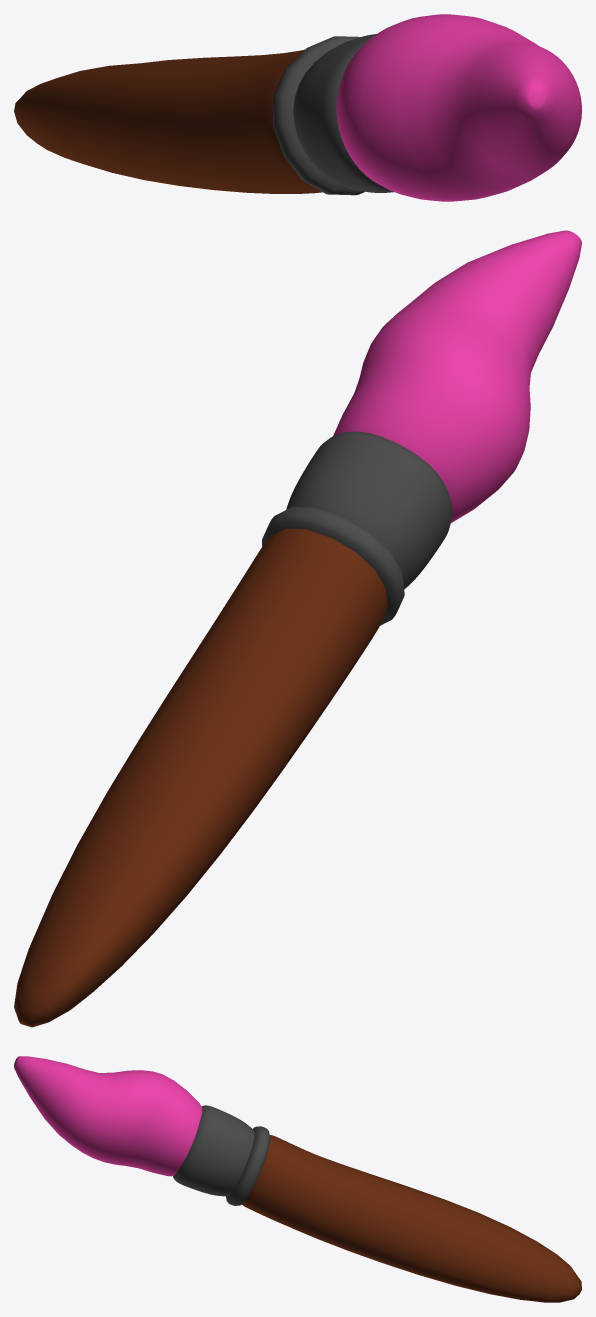
Rendered from brush.fbx.
3 renders of one model, top to bottom at view 1: azimuth 30°, elevation 25°; view 2: azimuth 150°, elevation 25°; view 3: azimuth 270°, elevation 25°, orthographic. The views are drawn at different scales.
Parts seen in each view (by area): view 1: Cylinder, Cube, Cube.002, Cube.001; view 2: Cube, Cylinder, Cube.002, Cube.001; view 3: Cube, Cylinder, Cube.002, Cube.001.
Boxes of the visible parts, x1,y1,x2,y2 form: Cylinder: (336, 14, 581, 201); Cube: (14, 49, 322, 193); Cube.002: (293, 34, 393, 192); Cube.001: (273, 36, 364, 195); Cube: (14, 528, 387, 1027); Cylinder: (333, 230, 581, 522); Cube.002: (286, 431, 451, 588); Cube.001: (262, 506, 404, 625); Cube: (242, 1135, 581, 1302); Cylinder: (14, 1056, 202, 1176); Cube.002: (172, 1105, 254, 1196); Cube.001: (226, 1126, 270, 1205).
Bounding box in the file's own units: 254 × 615 × 1347.
